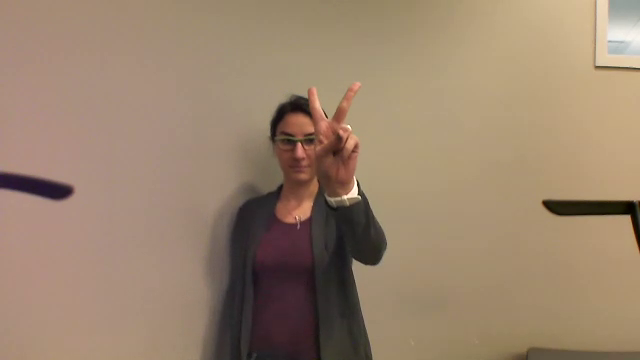peace: (299, 78, 368, 187)
